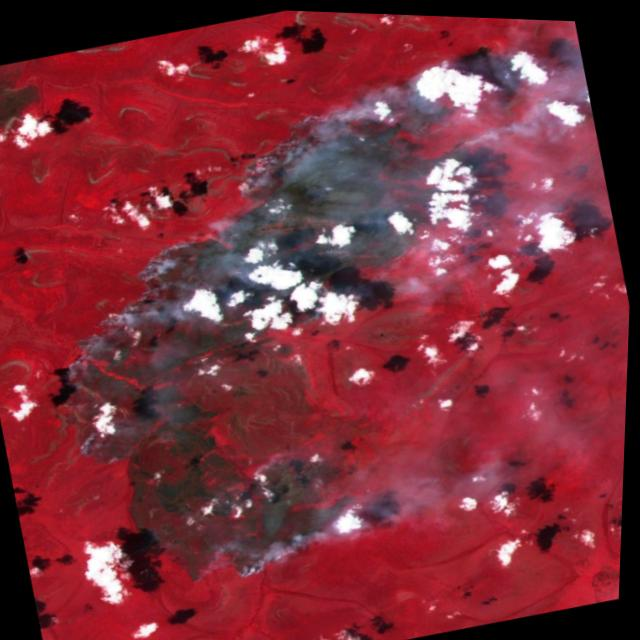fire: (0, 59, 515, 479), (190, 495, 350, 595)
